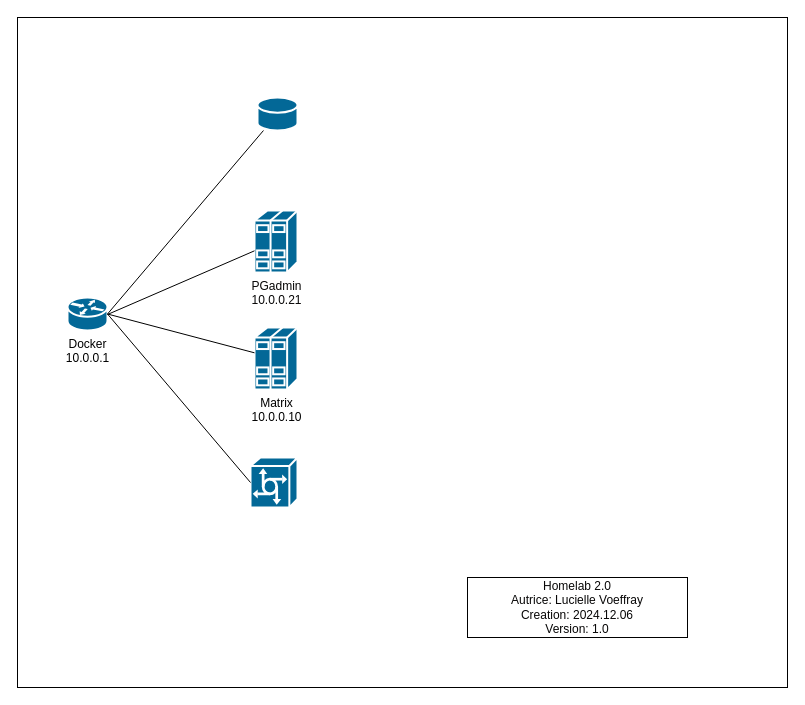
Some shapes in this 805 by 705 pixel diagram are drawn without their labels. The shapes that lost their labels are listed below. From the top down, each one's centre as x and y in pixels, then its label:
At (277,113): "Postgres 10.0.0.20".
At (273,482): "NginX 10.0.0.2".
